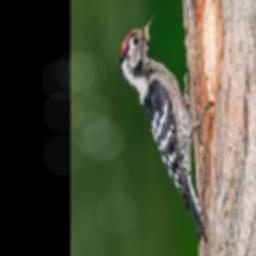Woodpecker: (119, 13, 213, 240)
